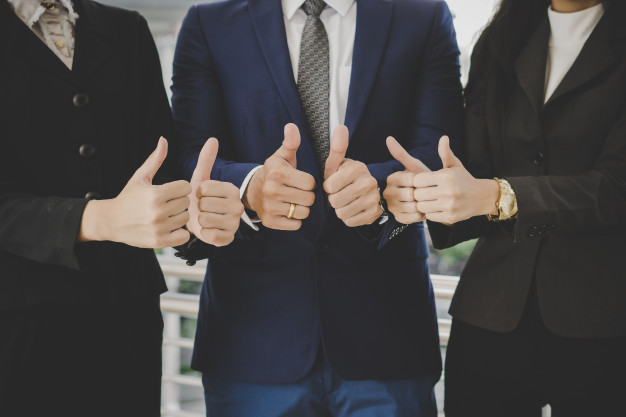thumbsup: (134, 136, 192, 248), (258, 123, 316, 230), (323, 124, 381, 227), (193, 135, 244, 245), (414, 135, 458, 223), (382, 135, 419, 225)
